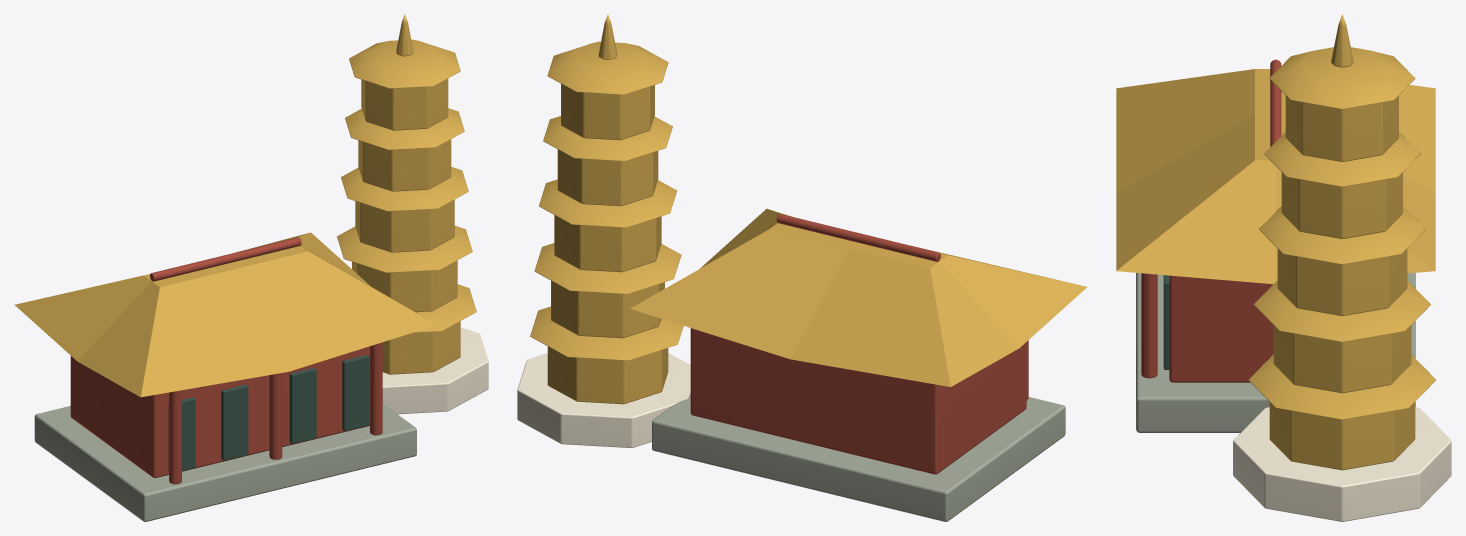
Rendered from jiming-original.glb.
The picture shows the model from 3 angles, left to right: view 1: azimuth 30°, elevation 25°; view 2: azimuth 150°, elevation 25°; view 3: azimuth 270°, elevation 25°; orthographic projection. The views are drawn at different scales.
Visible parts, largest first — view 1: temple roof, temple plinth, temple body, medicine buddha tower foundation, medicine buddha tower storey.002, medicine buddha tower eave.004, medicine buddha tower storey.003, medicine buddha tower storey.004, medicine buddha tower storey.001, medicine buddha tower eave.001, medicine buddha tower storey, medicine buddha tower eave.002 (+10 smaller); view 2: temple roof, temple body, temple plinth, medicine buddha tower foundation, medicine buddha tower storey, medicine buddha tower storey.002, medicine buddha tower eave.004, medicine buddha tower storey.003, medicine buddha tower storey.001, medicine buddha tower storey.004, medicine buddha tower eave, medicine buddha tower eave.001 (+3 smaller); view 3: temple roof, medicine buddha tower foundation, temple body, temple plinth, medicine buddha tower storey, medicine buddha tower storey.001, medicine buddha tower storey.002, medicine buddha tower eave.004, medicine buddha tower storey.003, medicine buddha tower storey.004, medicine buddha tower eave, medicine buddha tower eave.001 (+6 smaller).
Part boxes in pixels (box(x1,y1,x2,y2)): temple roof: box(14, 232, 436, 397); temple plinth: box(34, 404, 416, 521); temple body: box(70, 346, 369, 477); medicine buddha tower foundation: box(382, 327, 488, 414); medicine buddha tower storey.002: box(355, 200, 454, 252); medicine buddha tower eave.004: box(349, 39, 460, 88); medicine buddha tower storey.003: box(358, 139, 451, 191); medicine buddha tower storey.004: box(361, 78, 448, 130); medicine buddha tower storey.001: box(352, 260, 457, 312); medicine buddha tower eave.001: box(337, 225, 472, 272); medicine buddha tower storey: box(382, 321, 460, 374); medicine buddha tower eave.002: box(341, 167, 468, 211); temple roof: box(630, 208, 1086, 386); temple body: box(690, 328, 1026, 474); temple plinth: box(652, 393, 1065, 521); medicine buddha tower foundation: box(517, 353, 690, 447); medicine buddha tower storey: box(547, 346, 668, 404); medicine buddha tower storey.002: box(554, 215, 661, 272); medicine buddha tower eave.004: box(547, 41, 668, 94); medicine buddha tower storey.003: box(557, 149, 658, 206); medicine buddha tower storey.001: box(551, 281, 664, 338); medicine buddha tower storey.004: box(561, 84, 654, 140); medicine buddha tower eave: box(530, 306, 683, 360); medicine buddha tower eave.001: box(534, 243, 681, 294); temple roof: box(1116, 69, 1435, 284); medicine buddha tower foundation: box(1233, 407, 1451, 521); temple body: box(1169, 275, 1273, 382); temple plinth: box(1136, 273, 1415, 432); medicine buddha tower storey: box(1269, 402, 1415, 470); medicine buddha tower storey.001: box(1273, 325, 1411, 393); medicine buddha tower storey.002: box(1277, 249, 1407, 316); medicine buddha tower eave.004: box(1269, 47, 1415, 109); medicine buddha tower storey.003: box(1281, 172, 1402, 238); medicine buddha tower storey.004: box(1285, 95, 1398, 161); medicine buddha tower eave: box(1248, 354, 1435, 419); medicine buddha tower eave.001: box(1253, 280, 1430, 341).
Size of the model in its own units: 9.39 by 7.67 by 5.04.
